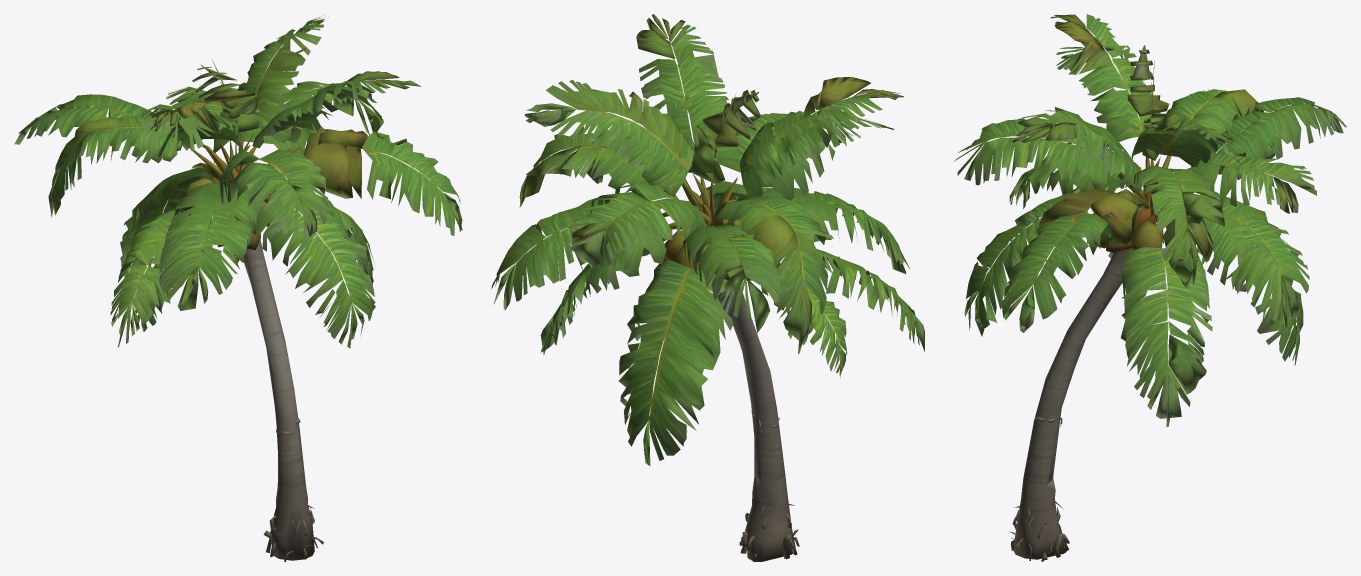
Rendered from coconut_palm.glb.
3 views of the same model, side by side, from view 1: azimuth 30°, elevation 25°; view 2: azimuth 150°, elevation 25°; view 3: azimuth 270°, elevation 25° (orthographic). The views are drawn at different scales.
Visible parts, largest first — view 1: tripo_node_e3053f93-b38d-45b5-b3f4-60efd74ef35b; view 2: tripo_node_e3053f93-b38d-45b5-b3f4-60efd74ef35b; view 3: tripo_node_e3053f93-b38d-45b5-b3f4-60efd74ef35b.
Part boxes in pixels (x1,y1,x2,y2): tripo_node_e3053f93-b38d-45b5-b3f4-60efd74ef35b: (14, 14, 462, 561); tripo_node_e3053f93-b38d-45b5-b3f4-60efd74ef35b: (491, 14, 924, 561); tripo_node_e3053f93-b38d-45b5-b3f4-60efd74ef35b: (953, 14, 1346, 561).
Bounding box in the file's own units: 0.7496 × 1 × 0.7358.
1 material, 1 textured.
